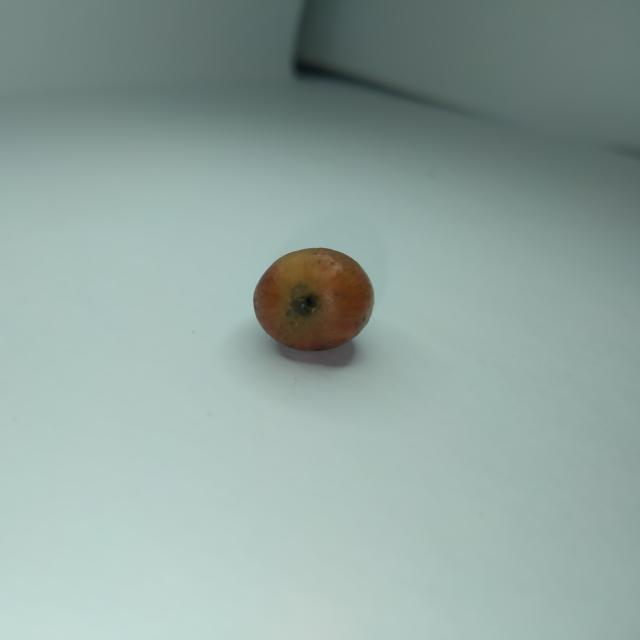Infectado: (253, 248, 373, 351)
